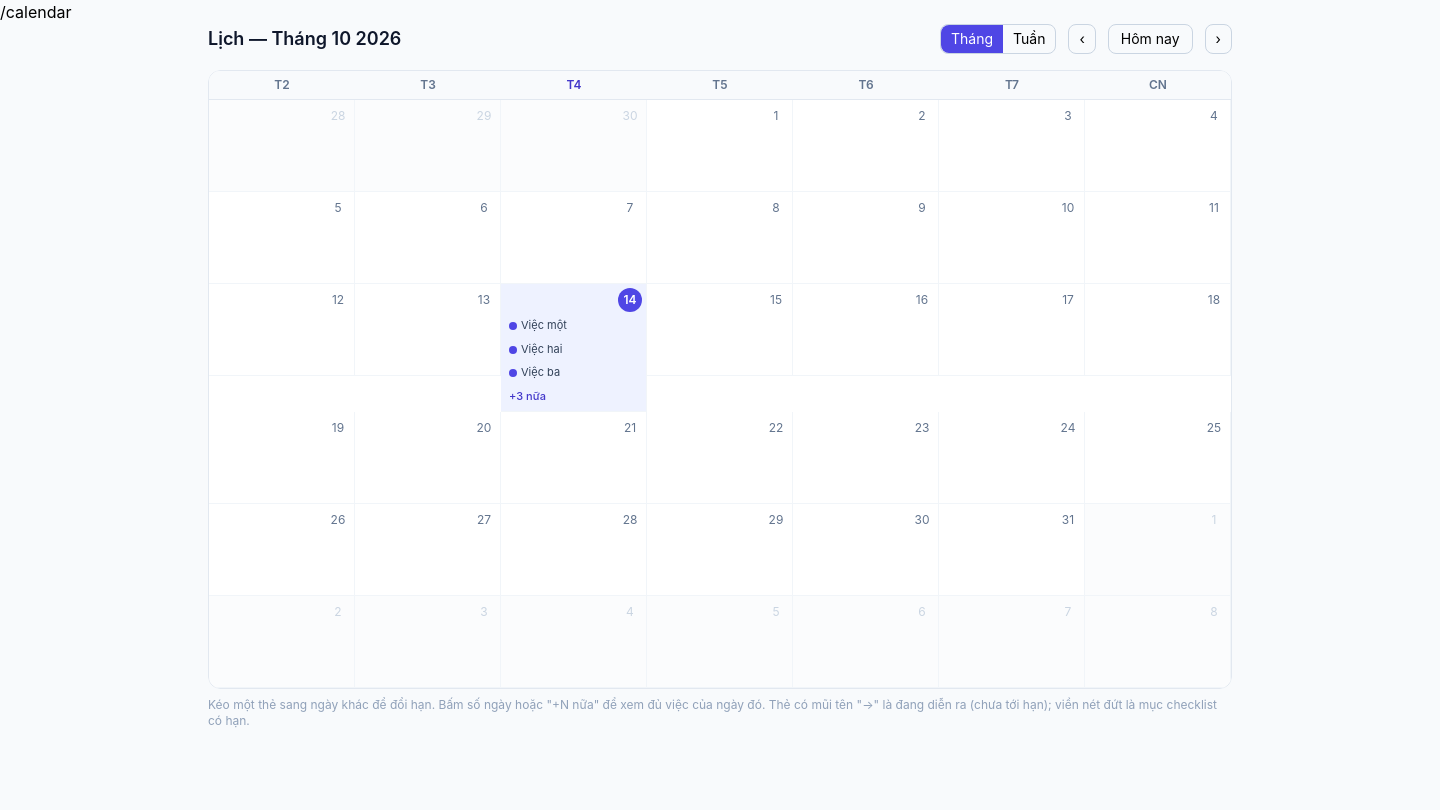
Test: CalendarPage › opens a dialog with every job of the day when "+N nữa" is pressed
The image size is (1440, 810).
Expected: the text "Việc bốn" is not shown
Click the button with aria-label "Xem thêm 3 việc ngày 14/10": (574, 397) [505, 387, 642, 407]
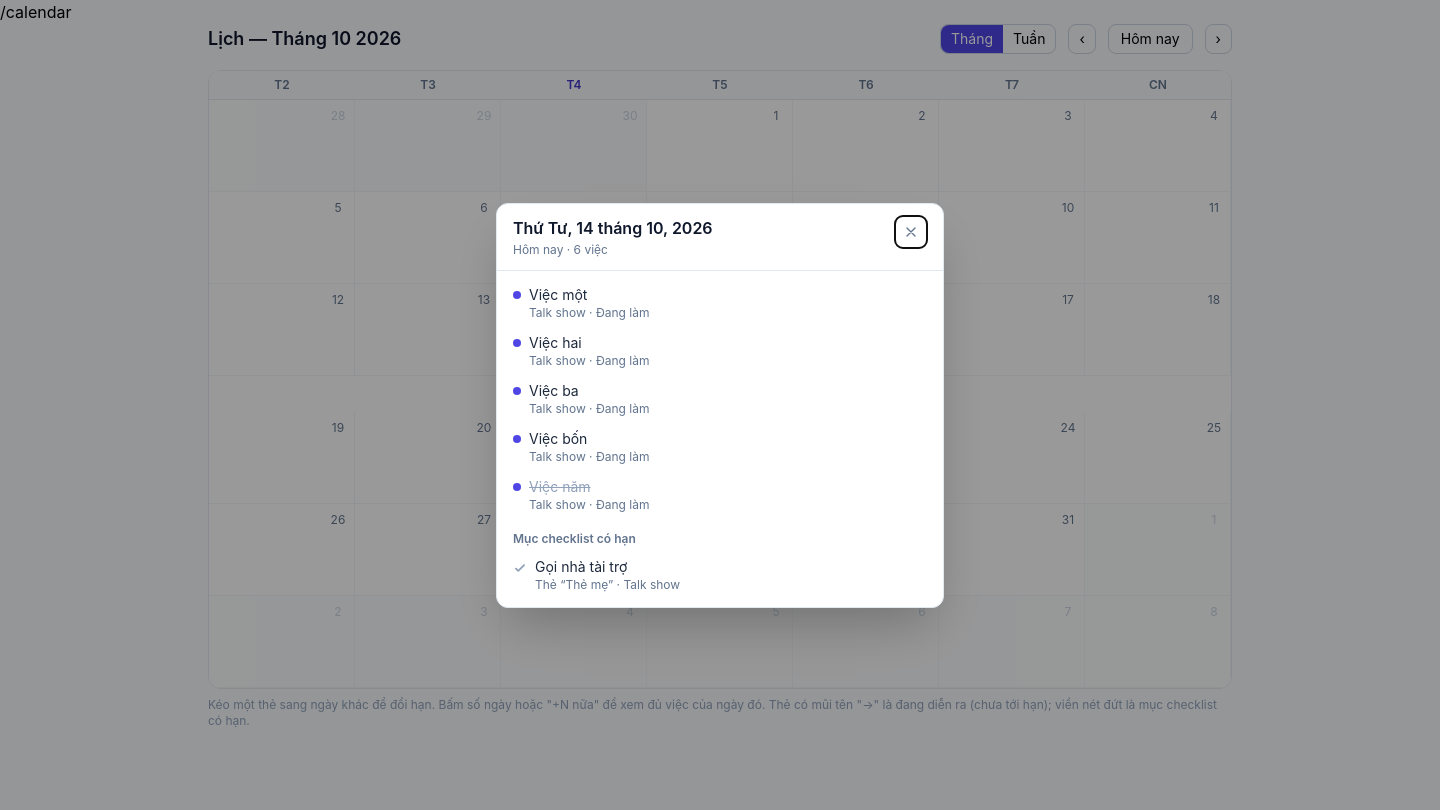
Now the text "Hôm nay · 6 việc" is shown, box [513, 242, 608, 256]
Now the text "Việc một" is shown, box [529, 286, 587, 302]
Now the text "Việc hai" is shown, box [529, 334, 582, 350]
